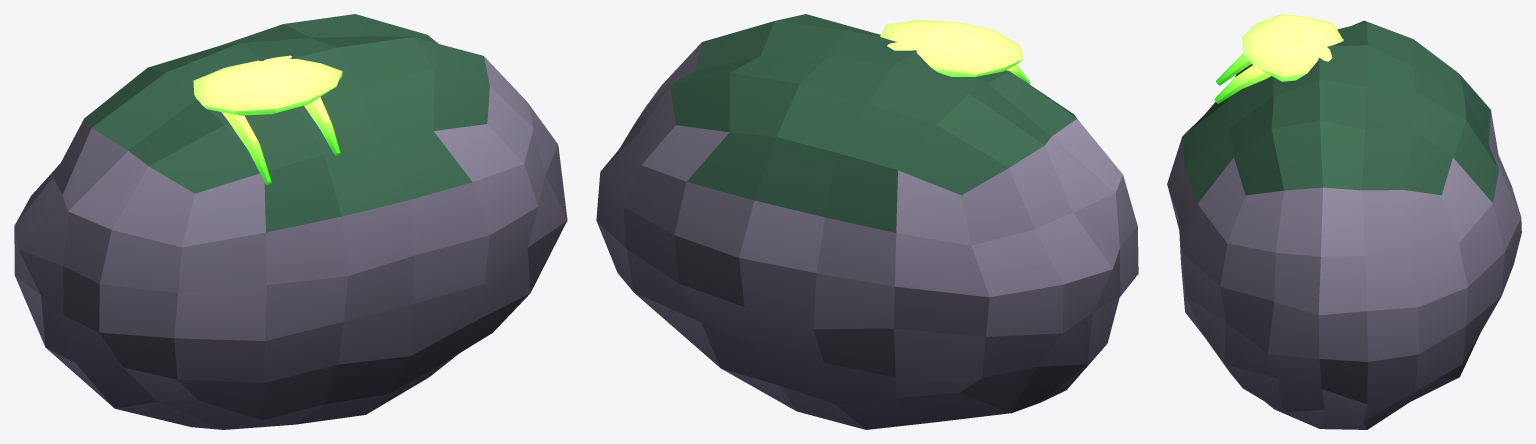
The model's file is PlayGround_Kit_Hill_Slime.fbx.
3 renders of one model, left to right at view 1: azimuth 30°, elevation 25°; view 2: azimuth 150°, elevation 25°; view 3: azimuth 270°, elevation 25°, orthographic. The views are drawn at different scales.
Parts seen in each view (by area): view 1: PlayGround_Kit_Hill_Slime; view 2: PlayGround_Kit_Hill_Slime; view 3: PlayGround_Kit_Hill_Slime.
Boxes of the visible parts, x1=… form: PlayGround_Kit_Hill_Slime: x1=14, y1=14, x2=567, y2=429; PlayGround_Kit_Hill_Slime: x1=596, y1=14, x2=1138, y2=429; PlayGround_Kit_Hill_Slime: x1=1167, y1=14, x2=1521, y2=429.
Bounding box in the file's own units: 10.1 × 6.81 × 6.61.
